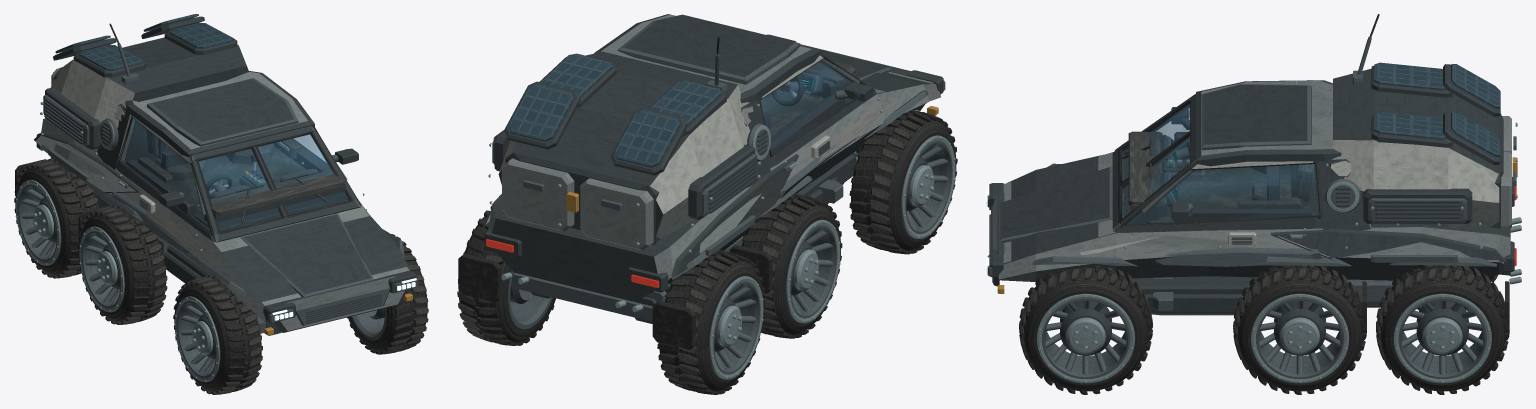
Rendered from camioneta-marciana-6x6.glb.
3 renders of one model, left to right at view 1: azimuth 30°, elevation 25°; view 2: azimuth 150°, elevation 25°; view 3: azimuth 270°, elevation 25°, orthographic. The views are drawn at different scales.
Parts seen in each view (by area): view 1: Chasis, Rim_2_L, Rim_1_L, Rim_3_L, Rim_1_R; view 2: Chasis, Rim_1_L, Rim_3_L, Rim_2_L, Rim_3_R; view 3: Chasis, Rim_2_R, Rim_3_R, Rim_1_R.
Part boxes in pixels (x1,y1,x2,y2): Chasis: (15,14,418,335); Rim_2_L: (78,204,167,324); Rim_1_L: (173,274,262,394); Rim_3_L: (14,158,99,278); Rim_1_R: (347,234,428,354); Chasis: (458,14,945,349); Rim_1_L: (849,110,957,254); Rim_3_L: (657,250,765,394); Rim_2_L: (741,193,842,338); Rim_3_R: (457,206,555,345); Chasis: (987,14,1521,332); Rim_2_R: (1233,265,1366,394); Rim_3_R: (1376,265,1509,394); Rim_1_R: (1019,266,1152,394).
Size of the model in its own units: 2.41 by 2.88 by 4.73.
7 materials, 7 textured.
